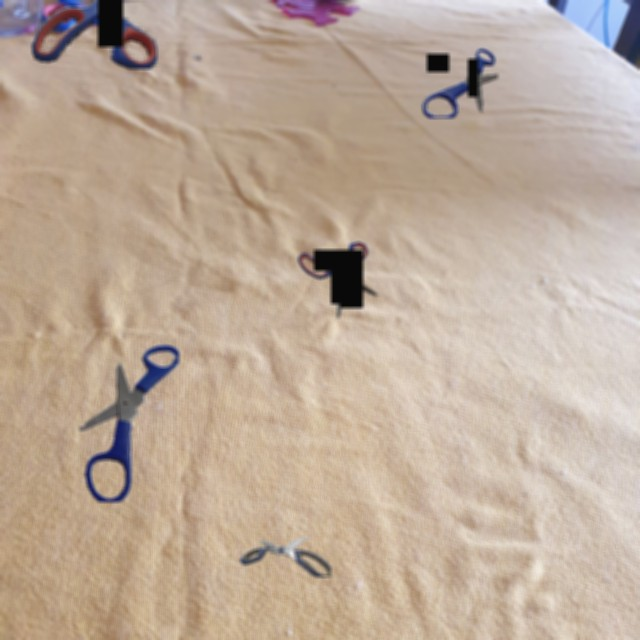scissors: (79, 345, 179, 502), (32, 0, 157, 69), (298, 242, 377, 318), (422, 49, 498, 118), (240, 536, 331, 577)
